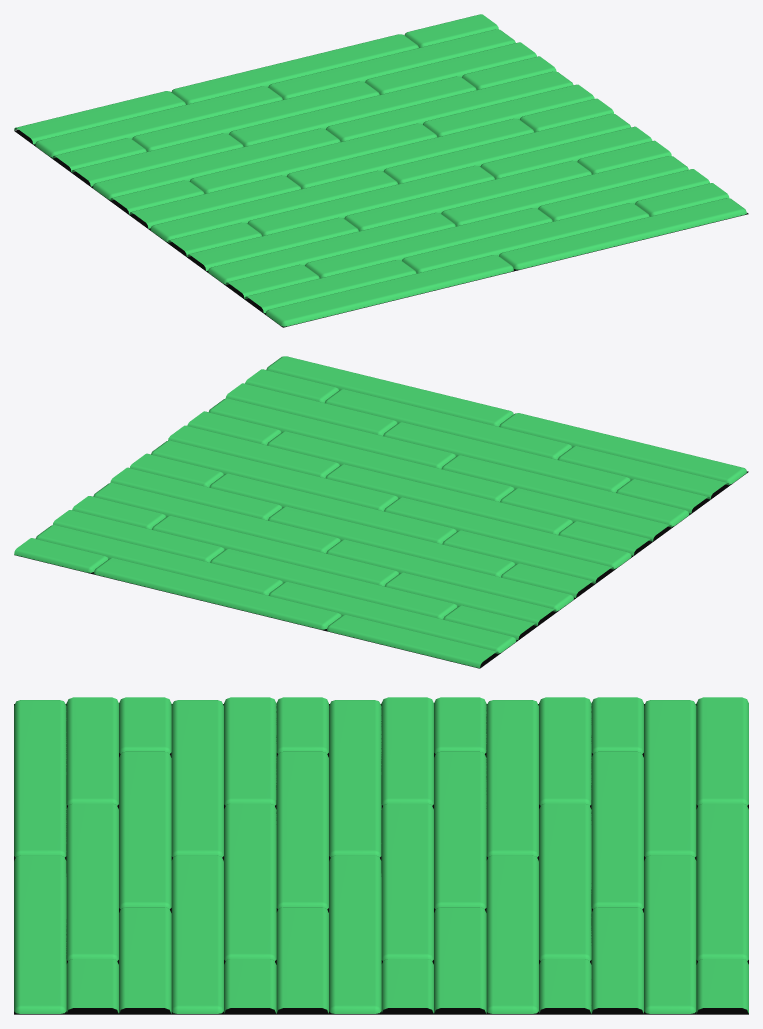
Rendered from Env2_Ground.fbx.
The picture shows the model from 3 angles, top to bottom: view 1: azimuth 30°, elevation 25°; view 2: azimuth 150°, elevation 25°; view 3: azimuth 270°, elevation 25°; orthographic projection. The views are drawn at different scales.
Visible parts, largest first — view 1: Env2_Ground; view 2: Env2_Ground; view 3: Env2_Ground.
Boxes of the visible parts, <box> form: Env2_Ground: <box>14,14,748,327</box>; Env2_Ground: <box>14,356,748,668</box>; Env2_Ground: <box>14,697,748,1014</box>.
Bounding box in the file's own units: 3 × 3 × 0.0291.
